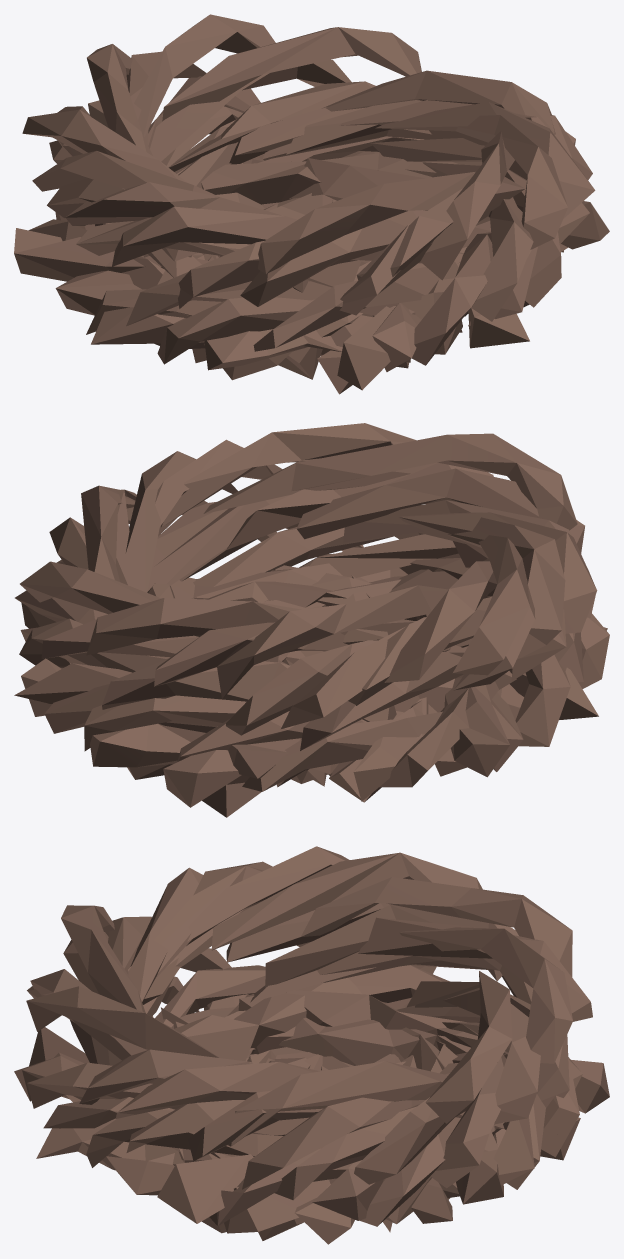
Rendered from Nest.fbx.
3 views of the same model, one above another, from view 1: azimuth 30°, elevation 25°; view 2: azimuth 150°, elevation 25°; view 3: azimuth 270°, elevation 25° (orthographic). The views are drawn at different scales.
Visible parts, largest first — view 1: Nest_Gen__1_; view 2: Nest_Gen__1_; view 3: Nest_Gen__1_.
Boxes of the visible parts, box(x1,y1,x2,y2) form: Nest_Gen__1_: box(14, 14, 609, 394); Nest_Gen__1_: box(14, 423, 609, 817); Nest_Gen__1_: box(14, 846, 609, 1244).
Bounding box in the file's own units: 352 × 143 × 352.
